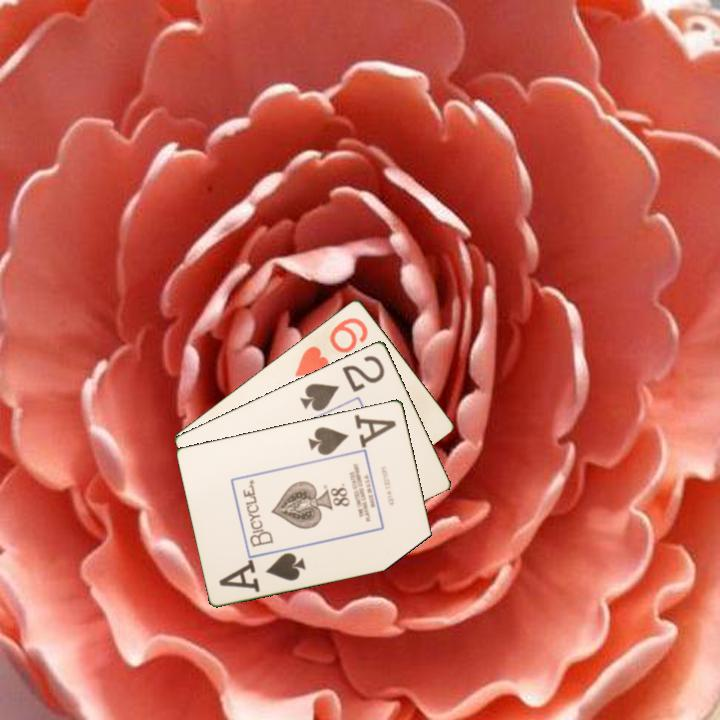2s: (297, 351, 388, 414)
6h: (291, 313, 371, 380)
As: (216, 549, 309, 595), (305, 419, 390, 458)
